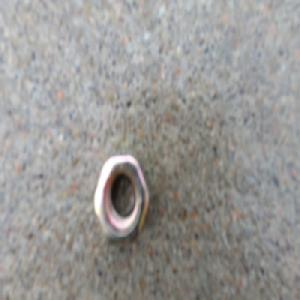Nut: (91, 150, 151, 246)
